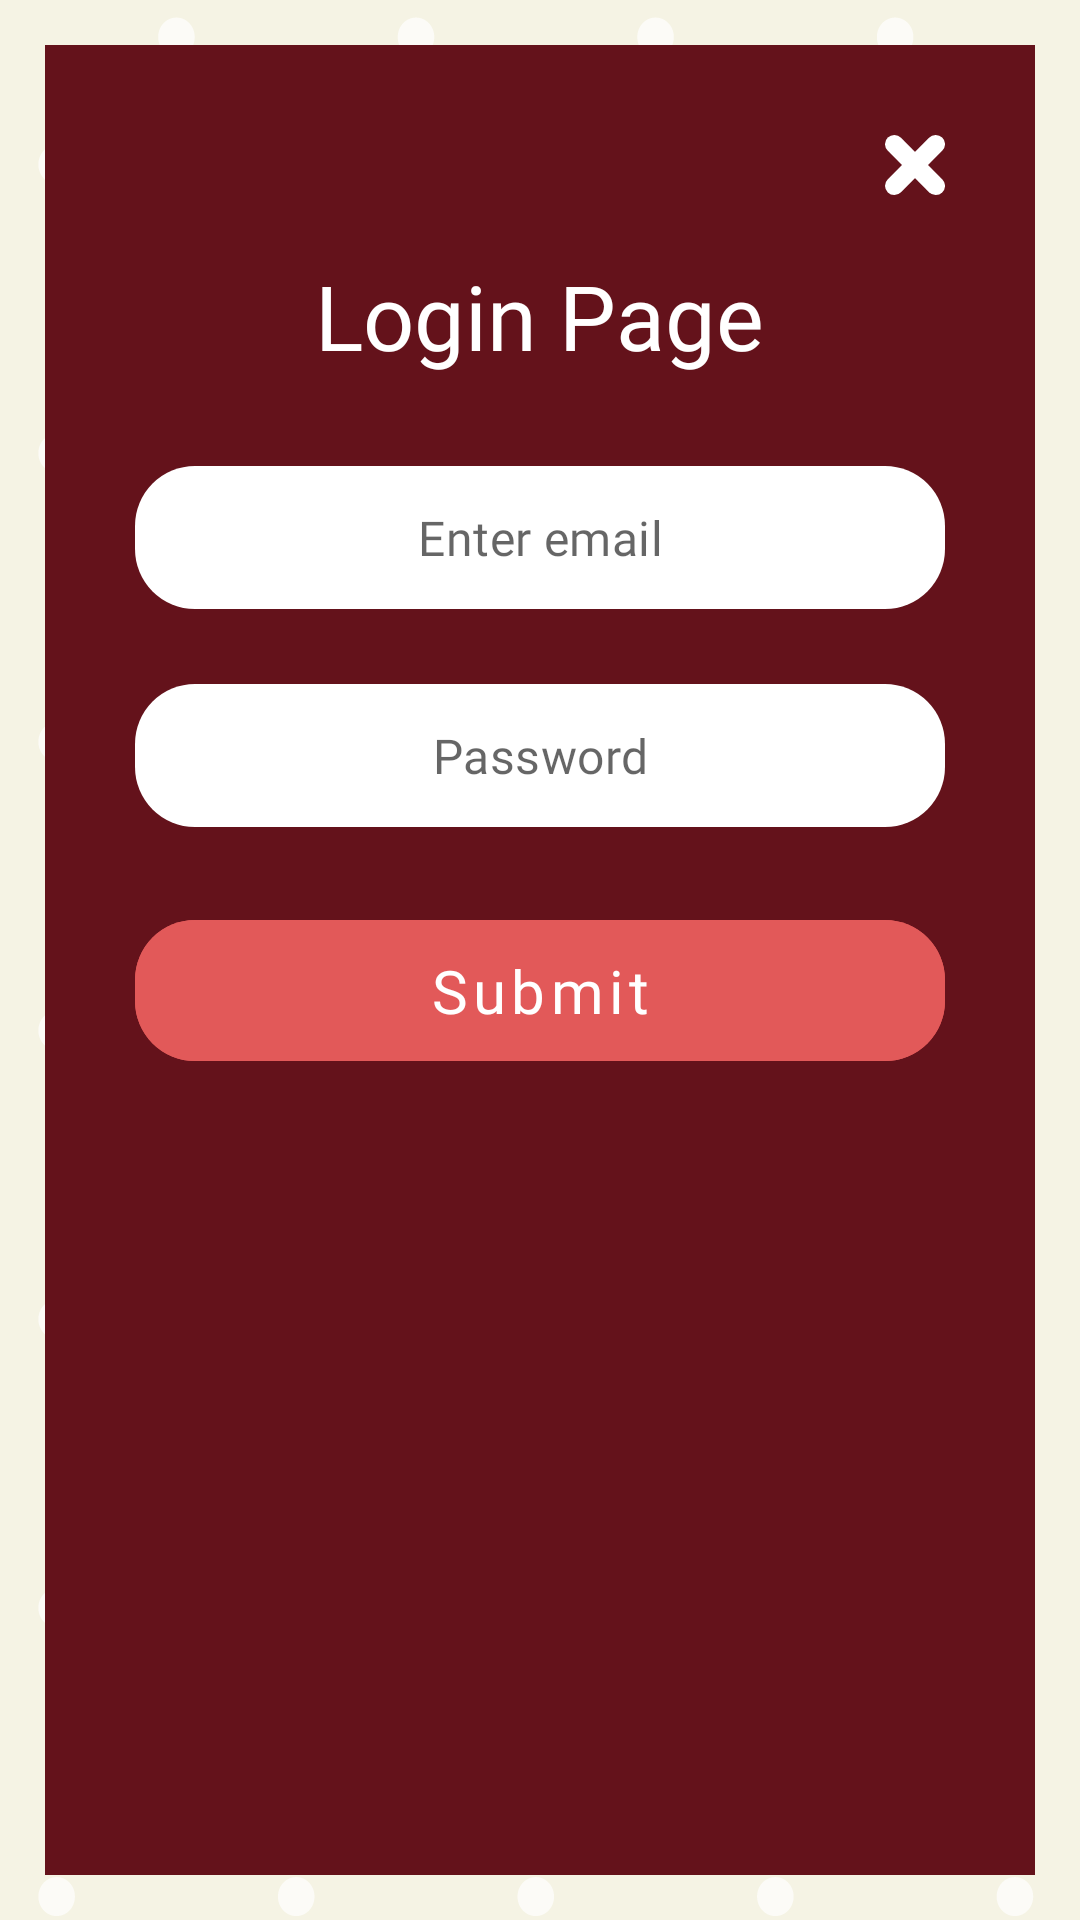

Point at icon controls on the screen. Image size 1080px×1920px, points as [x,y].
close: [915,165]
